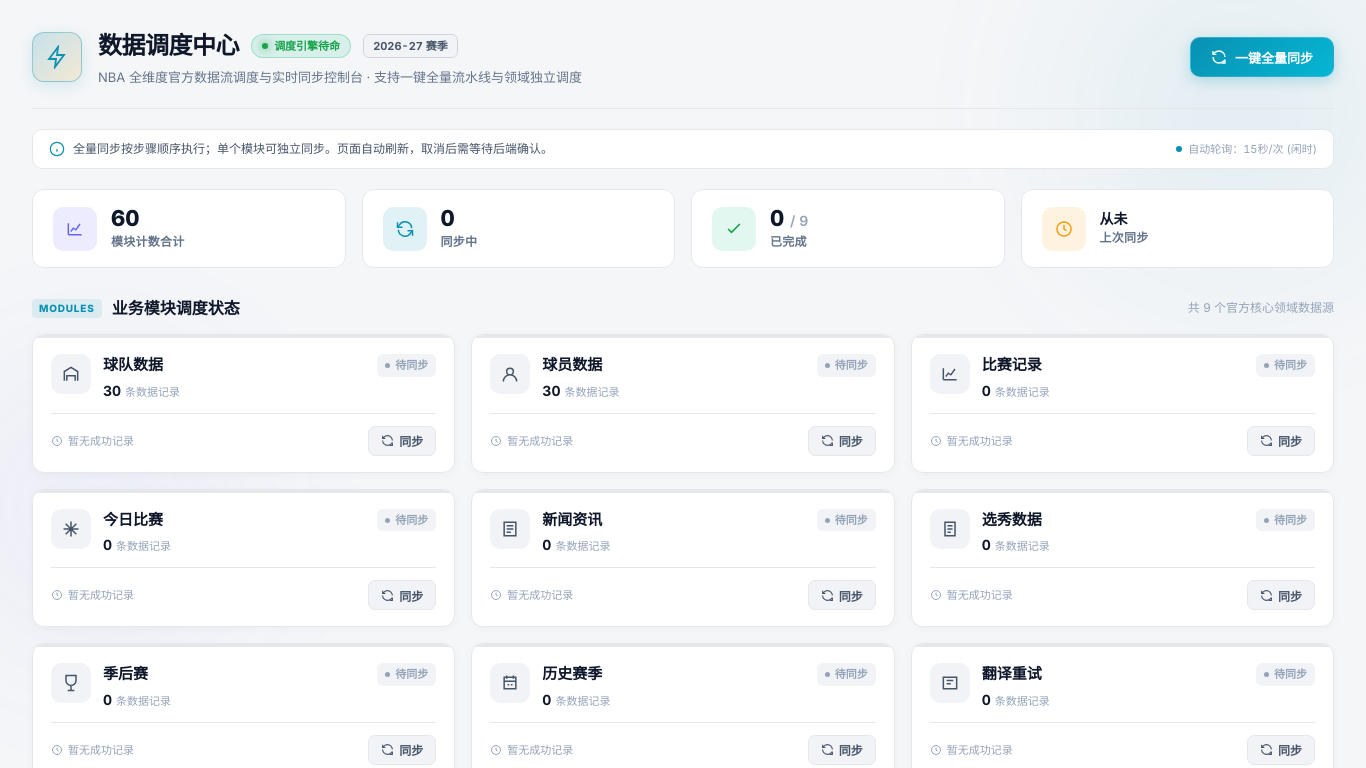
DataSyncView task lifecycle › keeps real task state when a submission fails instead of inventing a failed job
The image size is (1366, 768).
Click the button with class "btn-sm-sync" below "球队数据" at (402, 441), box [368,426,436,456]
(page scrolled)
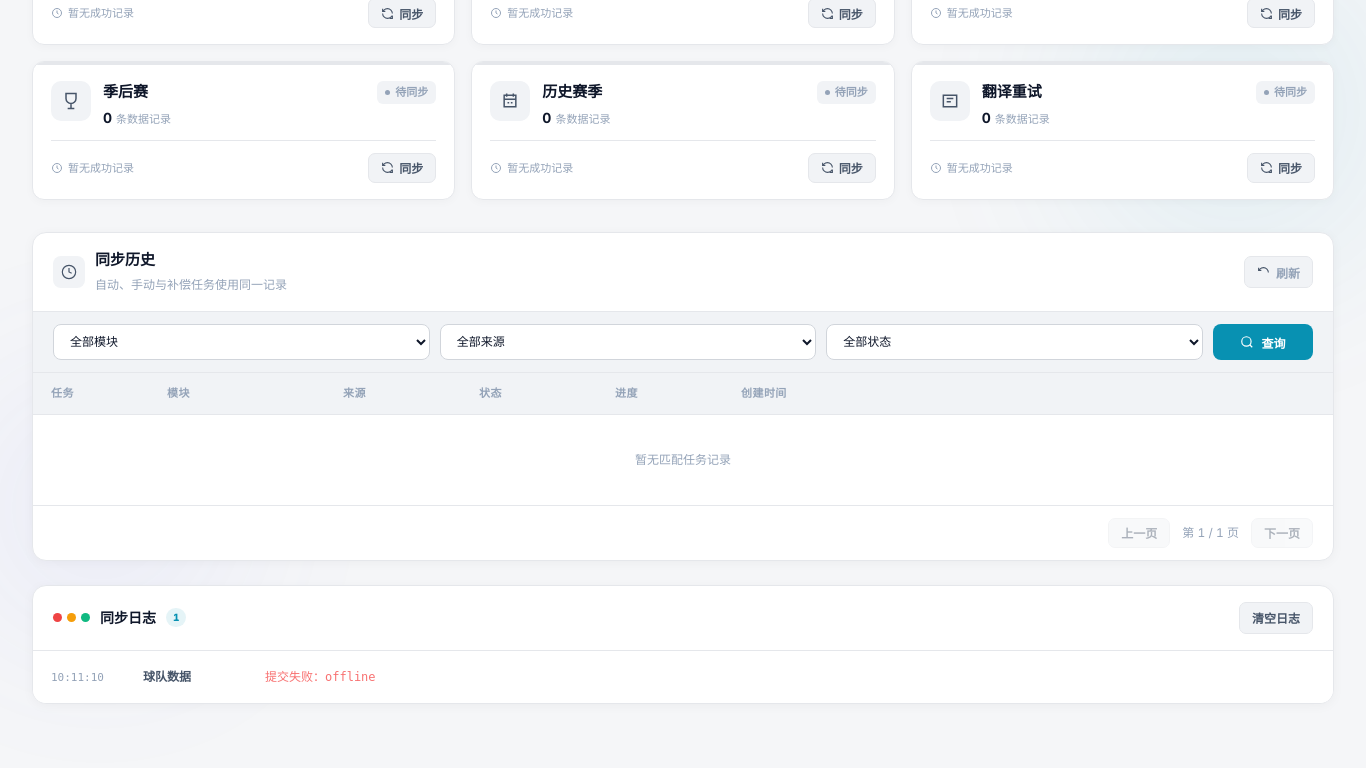
Check: the element with class "log-panel" shows "提交失败", box [265,670,376,684]
